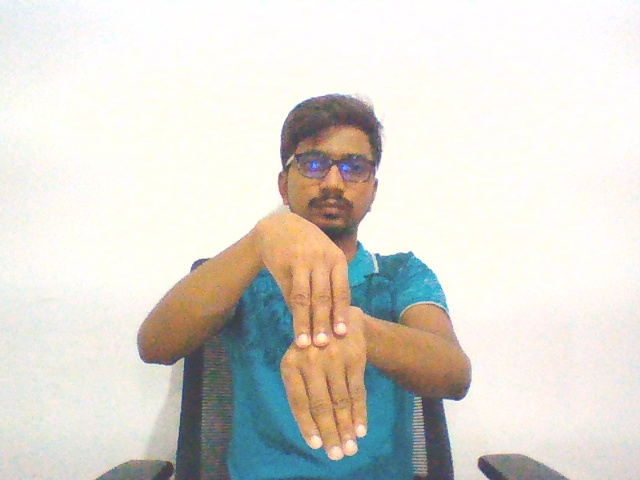papaya: (248, 202, 379, 463)
